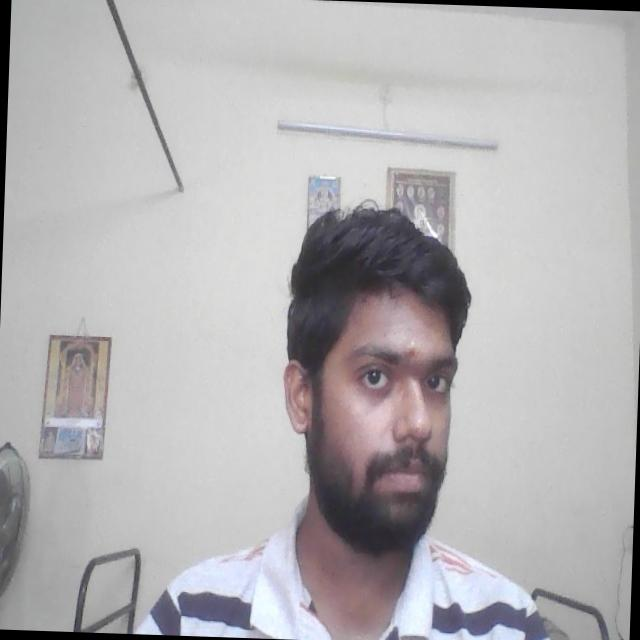Focused: (296, 303, 468, 525)
